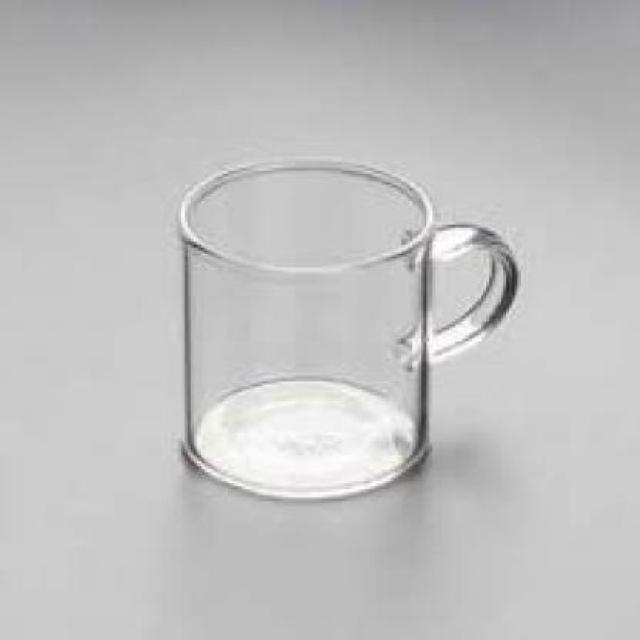kaca: (174, 154, 515, 497)
